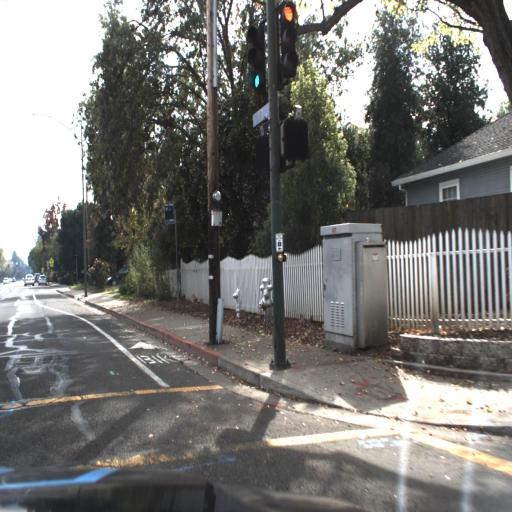car: (106, 265, 142, 286), (24, 274, 35, 287), (38, 275, 47, 286), (3, 278, 10, 285)
